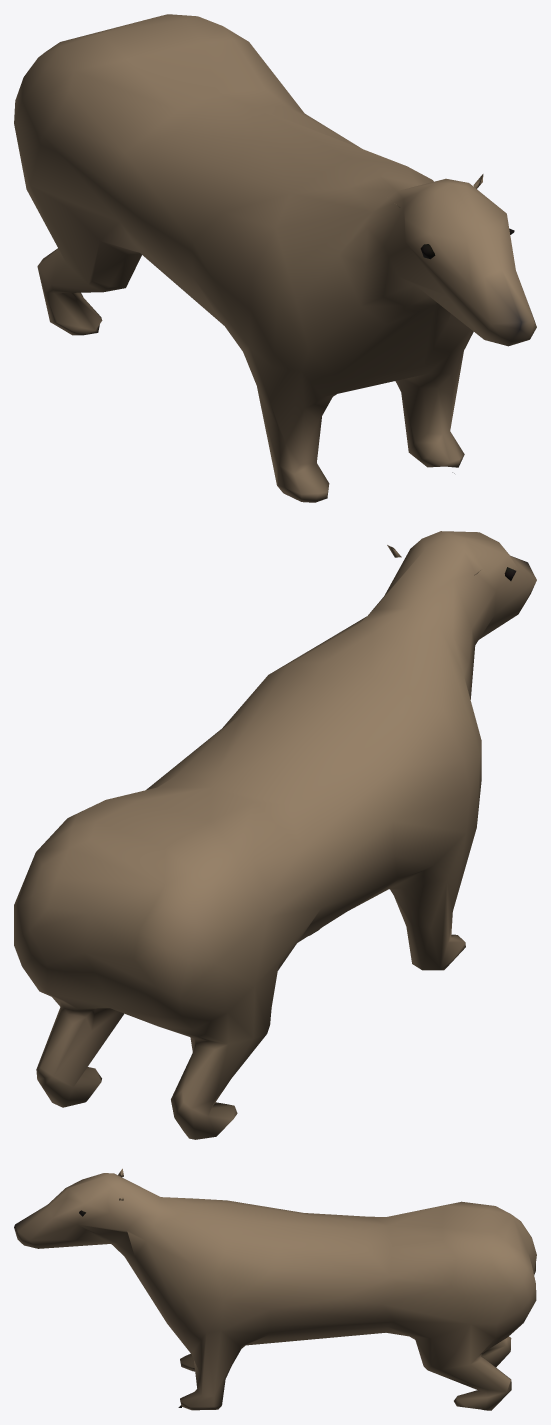
The model's file is capybara.glb.
3 views of the same model, one above another, from view 1: azimuth 30°, elevation 25°; view 2: azimuth 150°, elevation 25°; view 3: azimuth 270°, elevation 25° (orthographic). The views are drawn at different scales.
Parts seen in each view (by area): view 1: lack; view 2: lack; view 3: lack.
Boxes of the visible parts, left/top/right/bottom form: lack: left=14, top=14, right=536, bottom=502; lack: left=14, top=531, right=536, bottom=1139; lack: left=14, top=1168, right=536, bottom=1410.
Bounding box in the file's own units: 0.4459 × 0.6662 × 1.48.
